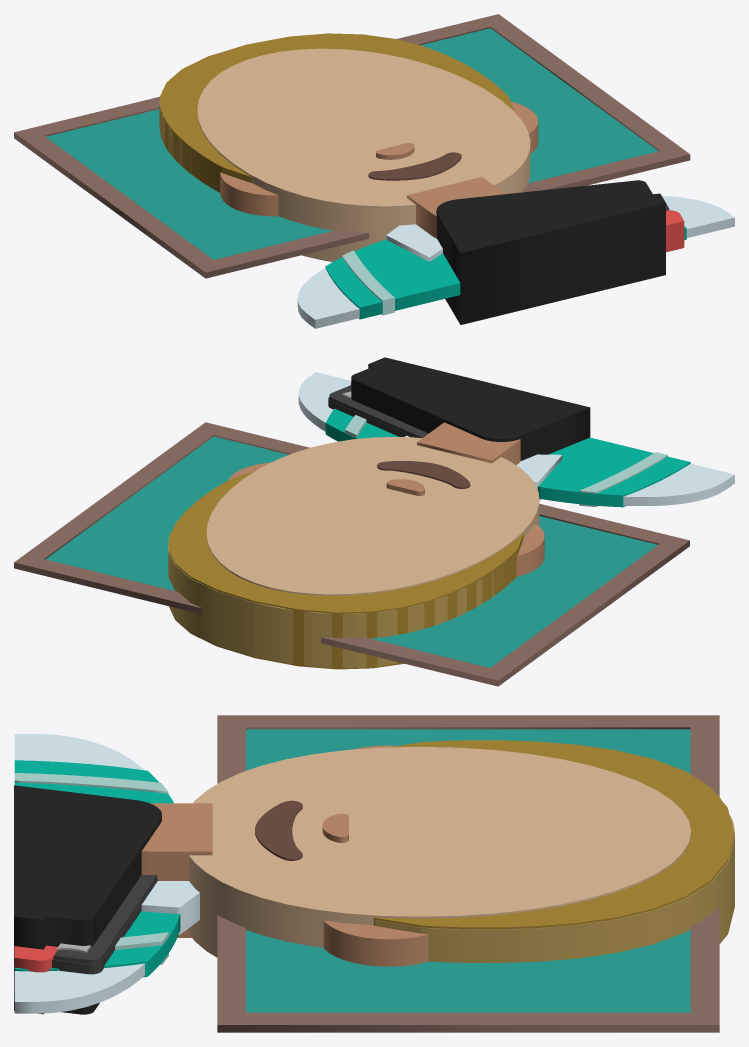
File: emoji_u1f468_1f3fc_200d_1f3eb.glb
3 renders of one model, top to bottom at view 1: azimuth 30°, elevation 25°; view 2: azimuth 150°, elevation 25°; view 3: azimuth 270°, elevation 25°, orthographic. The views are drawn at different scales.
Parts seen in each view (by area): view 1: emoji_u1f468_1f3fc_200d_1f3eb; view 2: emoji_u1f468_1f3fc_200d_1f3eb; view 3: emoji_u1f468_1f3fc_200d_1f3eb.
Part boxes in pixels (x1=…): emoji_u1f468_1f3fc_200d_1f3eb: x1=14, y1=14, x2=734, y2=328; emoji_u1f468_1f3fc_200d_1f3eb: x1=14, y1=357, x2=734, y2=686; emoji_u1f468_1f3fc_200d_1f3eb: x1=14, y1=715, x2=734, y2=1032.
Bounding box in the file's own units: 0.0338 × 0.0048 × 0.0333.
